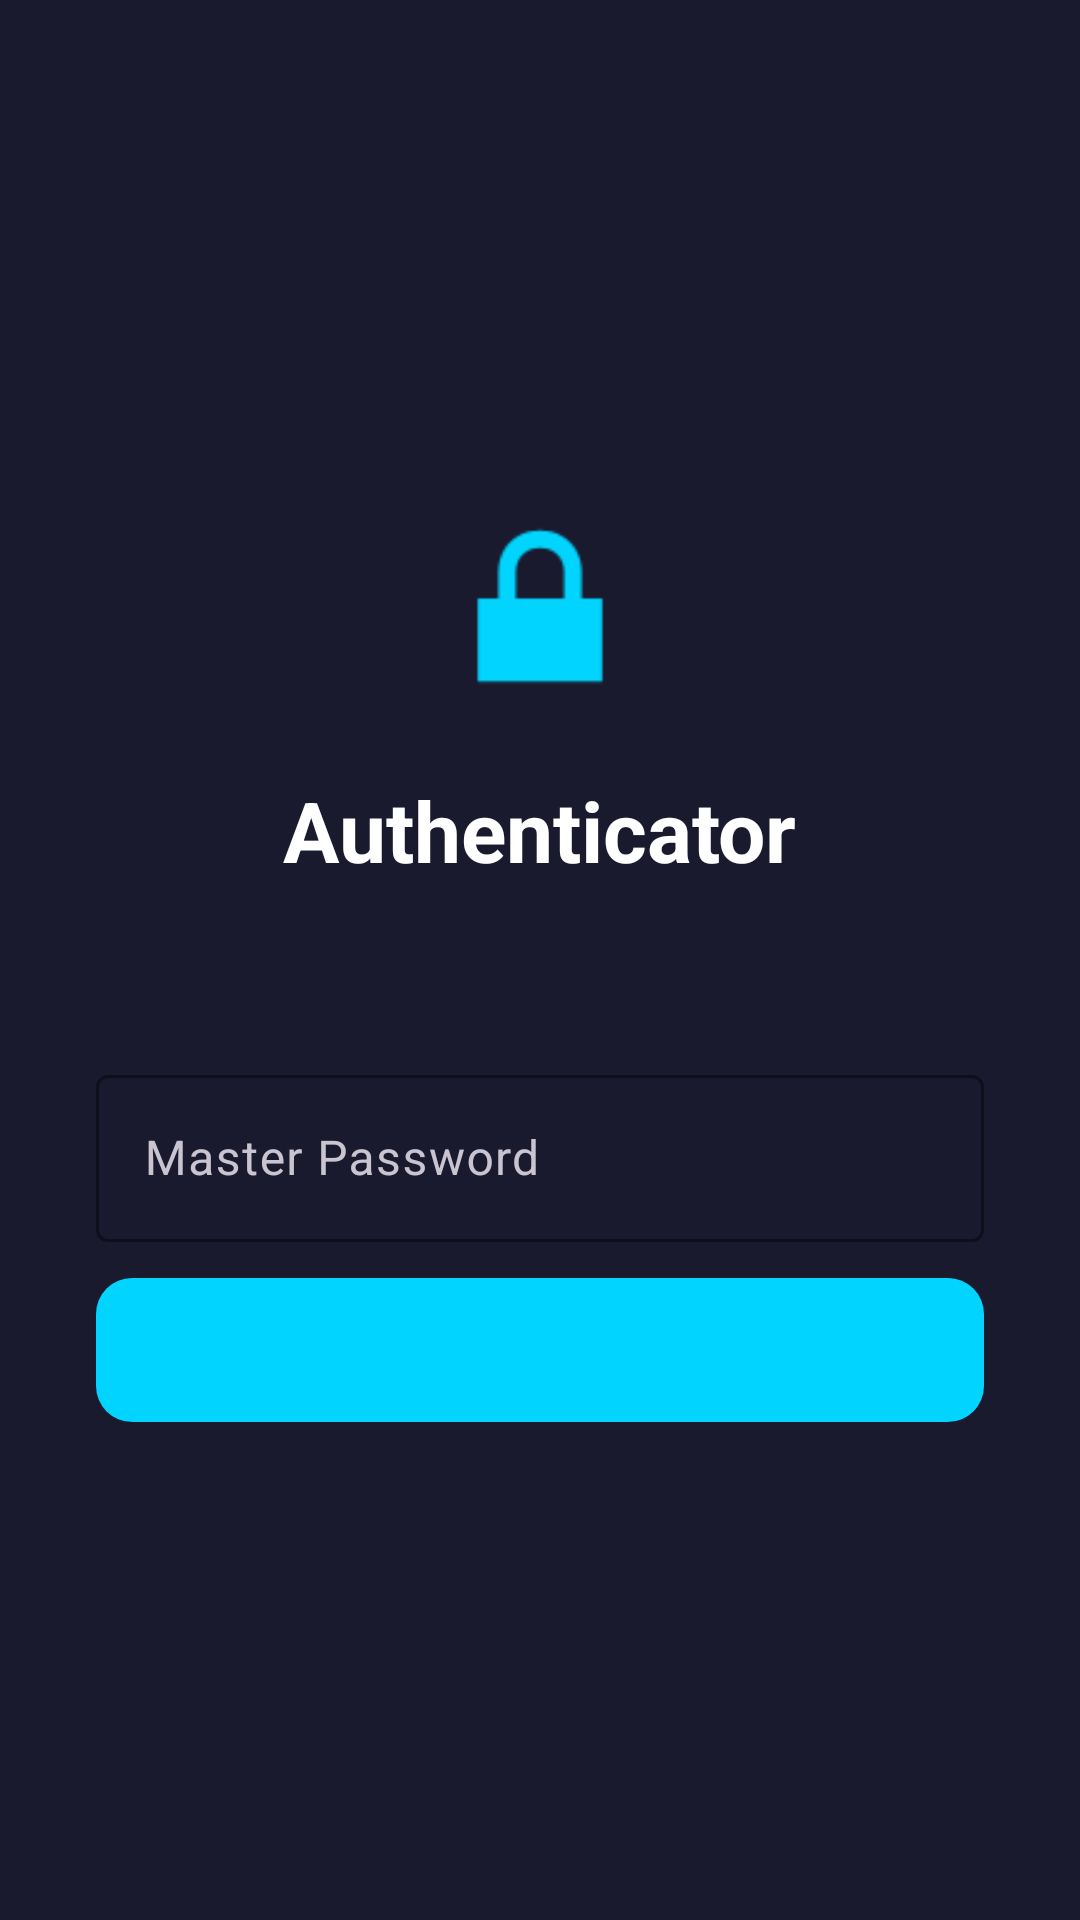

Named icons in this screenshot (1080*1920) and their bounding boxes, {"x1": x1, "y1": y1, "x2": x2, "y2": y2}:
lock: {"x1": 477, "y1": 529, "x2": 603, "y2": 683}
